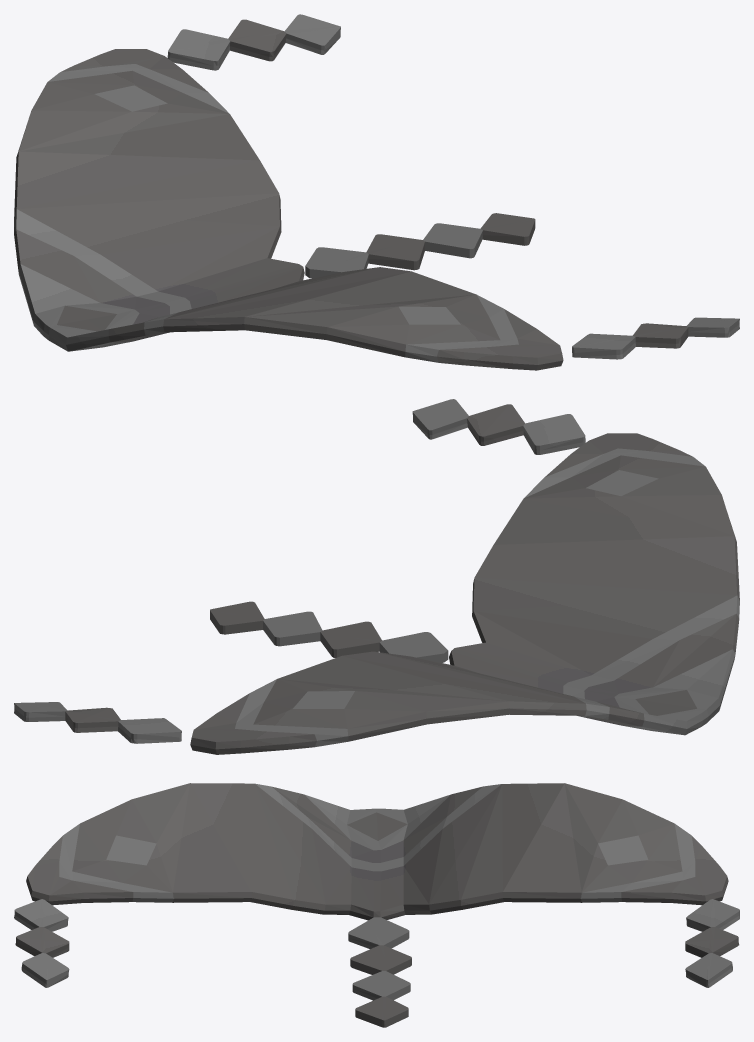
File: CharSkyKid_Prop_ColorKiteManta.glb
3 renders of one model, top to bottom at view 1: azimuth 30°, elevation 25°; view 2: azimuth 150°, elevation 25°; view 3: azimuth 270°, elevation 25°, orthographic. The views are drawn at different scales.
Parts seen in each view (by area): view 1: CharSkyKid_Prop_ColorKiteManta; view 2: CharSkyKid_Prop_ColorKiteManta; view 3: CharSkyKid_Prop_ColorKiteManta.
Boxes of the visible parts, x1,y1,x2,y2 form: CharSkyKid_Prop_ColorKiteManta: (14, 14, 739, 370); CharSkyKid_Prop_ColorKiteManta: (14, 399, 739, 754); CharSkyKid_Prop_ColorKiteManta: (14, 783, 739, 1027).
Size of the model in its own units: 12.97 by 2.51 by 19.91.
Materials: 1 (1 with a texture image).
